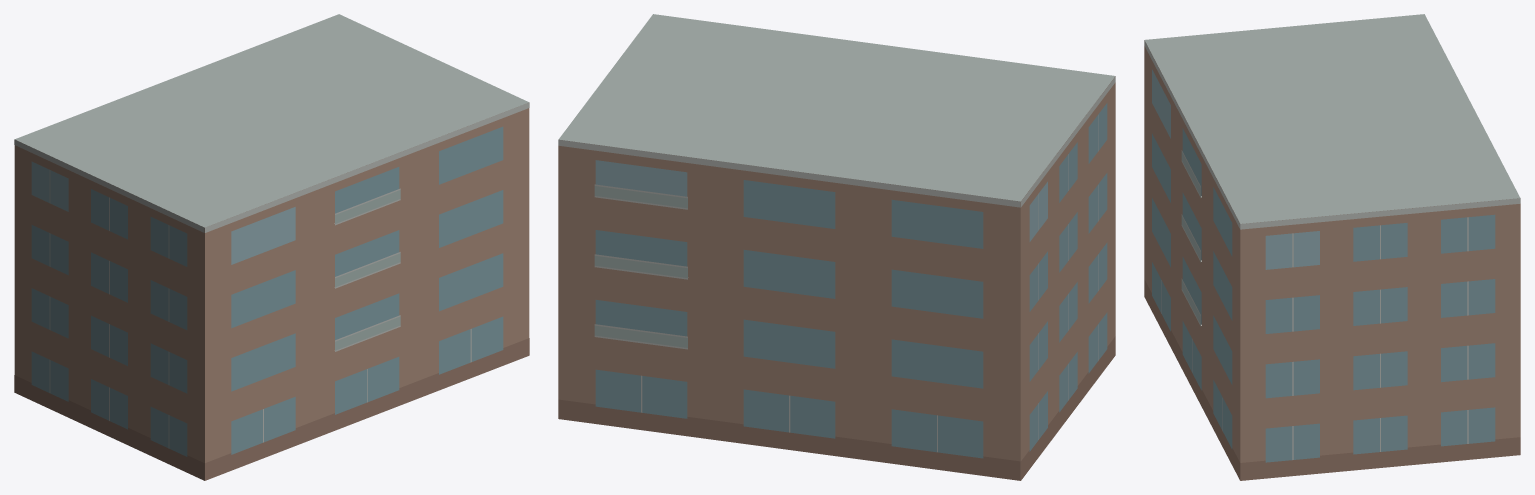
The model's file is survey-upis-32705554.glb.
3 renders of one model, left to right at view 1: azimuth 30°, elevation 25°; view 2: azimuth 150°, elevation 25°; view 3: azimuth 270°, elevation 25°, orthographic. The views are drawn at different scales.
Visible parts, largest first — view 1: survey-upis-32705554.tmp; view 2: survey-upis-32705554.tmp; view 3: survey-upis-32705554.tmp.
Part boxes in pixels (bbox=[...]): survey-upis-32705554.tmp: bbox=[14, 14, 529, 480]; survey-upis-32705554.tmp: bbox=[558, 14, 1115, 480]; survey-upis-32705554.tmp: bbox=[1144, 14, 1520, 480].
Bounding box in the file's own units: 19.46 × 11.1 × 14.74.
